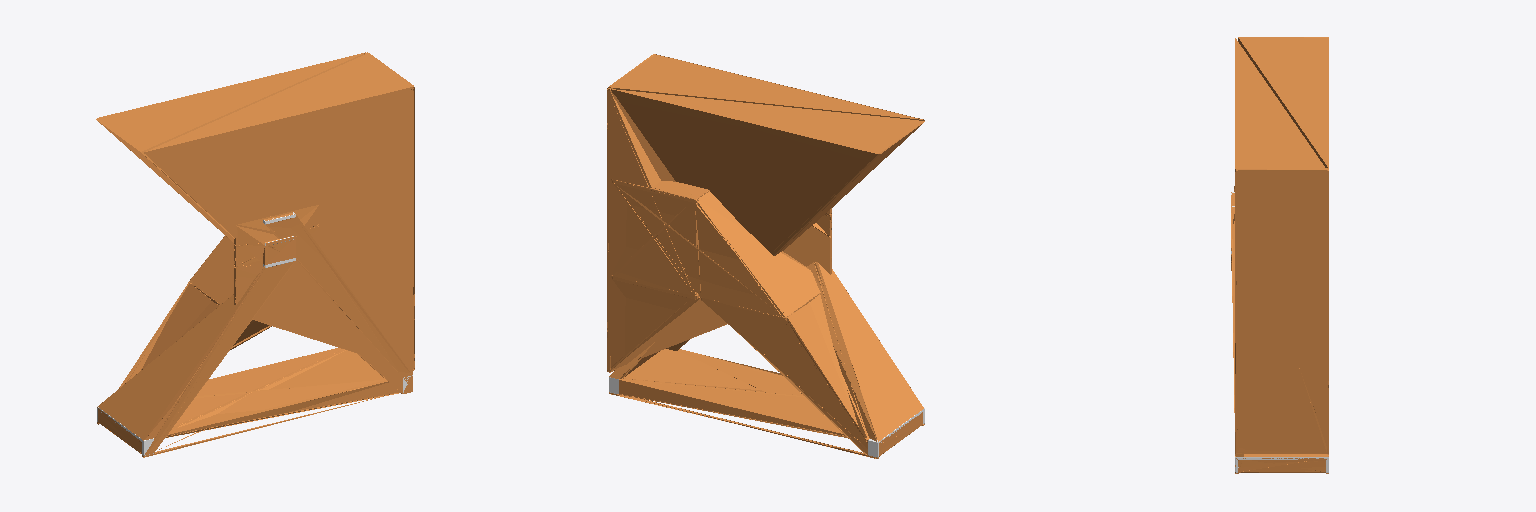
The picture shows the model from 3 angles: view 1: azimuth 30°, elevation 25°; view 2: azimuth 150°, elevation 25°; view 3: azimuth 270°, elevation 25°; orthographic projection.
Visible parts, largest first — view 1: archmodels87_052_001; view 2: archmodels87_052_001; view 3: archmodels87_052_001.
Part boxes in pixels (x1,y1,x2,y2): archmodels87_052_001: (96, 52, 414, 457); archmodels87_052_001: (607, 54, 924, 458); archmodels87_052_001: (1231, 37, 1328, 473).
Bounding box in the file's own units: 52.75 × 56.35 × 16.54.